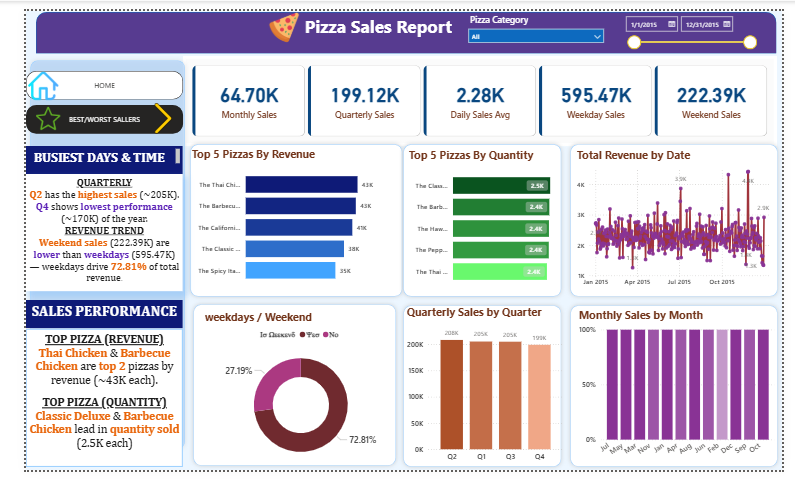

This screenshot's page, from the dashboard's own definition file:
{"tool":"powerbi","page":{"name":"BEST/WORST SALLERS","canvas":[1400,850],"ordinal":1},"visuals":[{"type":"cardVisual","fields":{"Data":["measures_table.Monthly Sales","measures_table.Quarterly Sales","measures_table.Daily Sales Avg","measures_table.Weekday Sales","measures_table.Weekend Sales"]},"box":[290.5,83.3,1100,166.7],"z":0},{"type":"shape","box":[19,2.4,1371.4,77],"z":1000},{"type":"image","box":[407.1,2.4,140.5,57.1],"z":2000},{"type":"textbox","box":[511.9,0,297.6,78.6],"z":3000},{"type":"shape","box":[295.7,238.3,408.5,297.9],"z":4000},{"type":"shape","box":[0,83.3,302.4,735.7],"z":5000},{"type":"textbox","box":[0,250,290.5,52.4],"z":6000},{"type":"textbox","box":[0,302.4,290.5,216.7],"z":7000},{"type":"textbox","box":[0,535.7,290.5,52.4],"z":8000},{"type":"textbox","box":[0,588.1,290.5,254.8],"z":9000},{"type":"slicer","fields":{"Values":["Pizza_Sales.Pizza Category"]},"box":[809.5,0,271.4,78.6],"z":10000},{"type":"slicer","fields":{"Values":["Pizza_Sales.Order Date"]},"box":[1097.6,0,264.3,78.6],"z":11000},{"type":"shape","box":[691.5,238.3,308.5,297.9],"z":12000},{"type":"shape","box":[1000,238.3,400,297.9],"z":13000},{"type":"shape","box":[302.1,535.1,391.5,314.9],"z":14000},{"type":"shape","box":[691.5,536.2,308.5,314.9],"z":15000},{"type":"shape","box":[1000,536.2,400,314.9],"z":16000},{"type":"barChart","title":"Top 5 Pizzas By Revenue","fields":{"Category":["Pizza_Sales.Pizza Name"],"Y":["measures_table.Total Revenue"]},"box":[302.5,250,367.5,267.5],"z":17000},{"type":"barChart","title":"Top 5 Pizzas By Quantity","fields":{"Category":["Pizza_Sales.Pizza Name"],"Y":["measures_table.Total Pizzas Sold"]},"box":[704.3,251.1,295.7,268.1],"z":18000},{"type":"columnChart","fields":{"Category":["Calendar_Table.Quarter"],"Y":["measures_table.Quarterly Sales"]},"box":[700,542.6,300,300],"z":19000},{"type":"hundredPercentStackedColumnChart","fields":{"Category":["Calendar_Table.Month"],"Y":["measures_table.Monthly Sales"]},"box":[1019.1,548.9,372.3,293.6],"z":20000},{"type":"lineChart","fields":{"Category":["Calendar_Table.Date"],"Y":["measures_table.Total Revenue"]},"box":[1014.9,251.1,380.9,268.1],"z":21000},{"type":"donutChart","title":"weekdays /  Weekend","fields":{"Category":["Calendar_Table.Is Weekend"],"Y":["measures_table.Weekend Sales %"]},"box":[325.5,551.1,366,300],"z":22000},{"type":"pageNavigator","box":[0,110.6,291.5,117],"z":23000},{"type":"image","box":[217,170.2,74.5,57.4],"z":24000},{"type":"image","box":[0,110.6,63.8,55.3],"z":25000},{"type":"image","box":[19.1,170.2,44.7,57.4],"z":26000}]}

Visuals, with their boxes in screenshot pixels (x1, y1, x2, y2), scaled from the page's 1400x850 canvas onto the 795x488 screenshot:
cardVisual - measures_table.Monthly Sales x measures_table.Quarterly Sales: [165, 48, 790, 144]
shape: [11, 1, 790, 46]
image: [231, 1, 311, 34]
textbox: [291, 0, 460, 45]
shape: [168, 137, 400, 308]
shape: [0, 48, 172, 470]
textbox: [0, 144, 165, 174]
textbox: [0, 174, 165, 298]
textbox: [0, 308, 165, 338]
textbox: [0, 338, 165, 484]
slicer - Pizza_Sales.Pizza Category: [460, 0, 614, 45]
slicer - Pizza_Sales.Order Date: [623, 0, 773, 45]
shape: [393, 137, 568, 308]
shape: [568, 137, 794, 308]
shape: [172, 307, 394, 487]
shape: [393, 308, 568, 487]
shape: [568, 308, 794, 487]
"Top 5 Pizzas By Revenue" barChart: [172, 144, 380, 297]
"Top 5 Pizzas By Quantity" barChart: [400, 144, 568, 298]
columnChart - Calendar_Table.Quarter x measures_table.Quarterly Sales: [398, 312, 568, 484]
hundredPercentStackedColumnChart - Calendar_Table.Month x measures_table.Monthly Sales: [579, 315, 790, 484]
lineChart - Calendar_Table.Date x measures_table.Total Revenue: [576, 144, 793, 298]
"weekdays /  Weekend" donutChart: [185, 316, 393, 487]
pageNavigator: [0, 63, 166, 131]
image: [123, 98, 166, 131]
image: [0, 63, 36, 95]
image: [11, 98, 36, 131]
